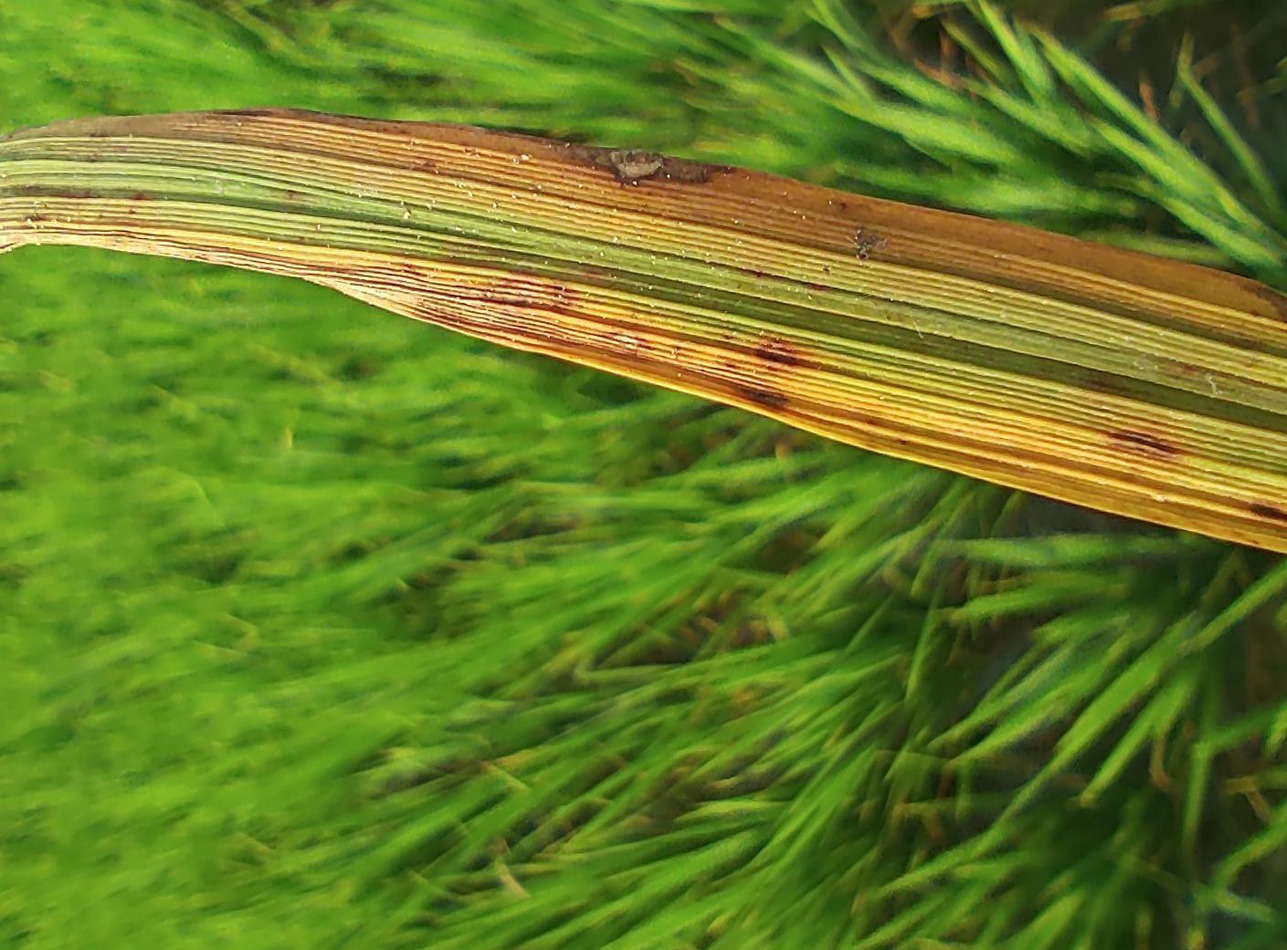LEAF: (0, 108, 1286, 551)
LEAF BLAST: (298, 261, 659, 368), (540, 139, 737, 188), (1111, 431, 1182, 463), (737, 384, 792, 412), (758, 338, 798, 369), (1248, 502, 1286, 524)
